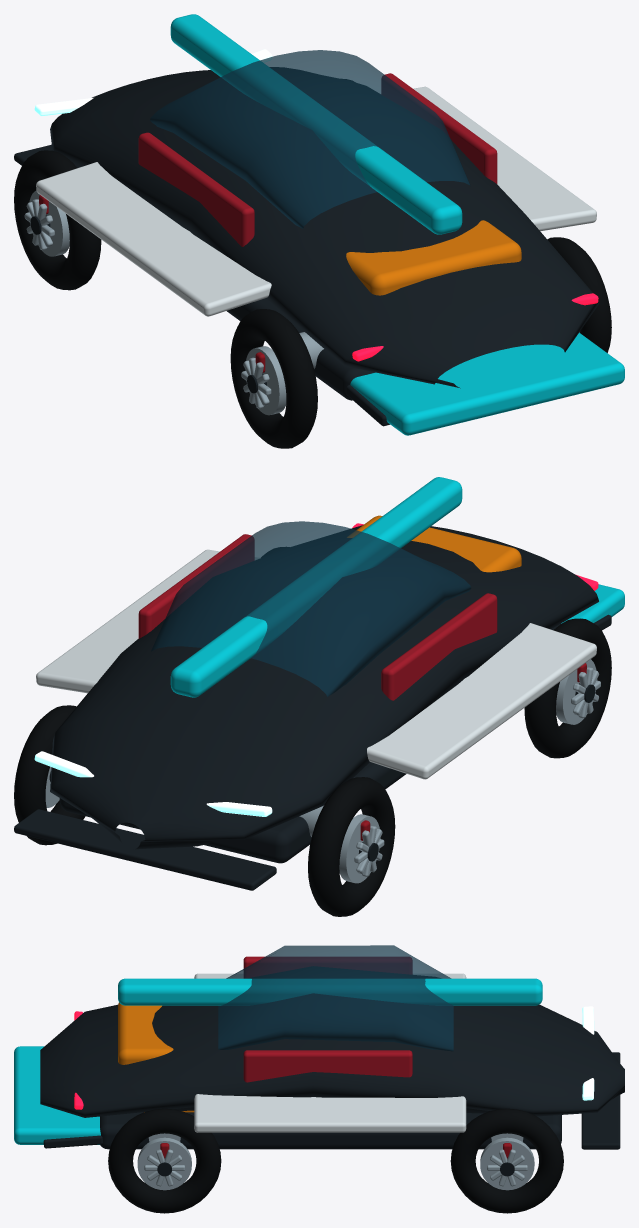
Rendered from chronos_flux.glb.
The picture shows the model from 3 angles, top to bottom: view 1: azimuth 30°, elevation 25°; view 2: azimuth 150°, elevation 25°; view 3: azimuth 270°, elevation 25°; orthographic projection. The views are drawn at different scales.
Visible parts, largest first — view 1: meet_mesh__monocoque__continuous_aero_shell, meet_mesh__canopy__single_piece_glasshouse, meet_mesh__active_diffuser__venturi, meet_mesh__left_vector_wing__morphing_surface, meet_mesh__adaptive_spine__energy_arch, meet_mesh__wheel_left_1.45__tire, meet_mesh__powertrain__original_power_core, meet_mesh__right_vector_wing__morphing_surface, meet_mesh__wheel_left_-1.55__tire, meet_mesh__left_door__scissor_shell, meet_mesh__right_door__scissor_shell, meet_mesh__wheel_right_1.45__tire (+4 smaller); view 2: meet_mesh__monocoque__continuous_aero_shell, meet_mesh__canopy__single_piece_glasshouse, meet_mesh__left_vector_wing__morphing_surface, meet_mesh__adaptive_spine__energy_arch, meet_mesh__wheel_left_-1.55__tire, meet_mesh__front_splitter__aero_plane, meet_mesh__right_vector_wing__morphing_surface, meet_mesh__wheel_left_1.45__tire, meet_mesh__left_door__scissor_shell, meet_mesh__chassis__lower_frame, meet_mesh__wheel_right_-1.55__tire, meet_mesh__right_door__scissor_shell (+6 smaller); view 3: meet_mesh__monocoque__continuous_aero_shell, meet_mesh__canopy__single_piece_glasshouse, meet_mesh__adaptive_spine__energy_arch, meet_mesh__right_vector_wing__morphing_surface, meet_mesh__wheel_right_-1.55__tire, meet_mesh__wheel_right_1.45__tire, meet_mesh__chassis__lower_frame, meet_mesh__right_door__scissor_shell, meet_mesh__active_diffuser__venturi, meet_mesh__left_door__scissor_shell, meet_mesh__powertrain__original_power_core, meet_mesh__front_splitter__aero_plane (+4 smaller).
Boxes of the visible parts, left/top/right/bottom form: meet_mesh__monocoque__continuous_aero_shell: left=50, top=67, right=599, bottom=388; meet_mesh__canopy__single_piece_glasshouse: left=150, top=50, right=470, bottom=228; meet_mesh__active_diffuser__venturi: left=350, top=332, right=624, bottom=435; meet_mesh__left_vector_wing__morphing_surface: left=36, top=162, right=271, bottom=316; meet_mesh__adaptive_spine__energy_arch: left=170, top=14, right=462, bottom=234; meet_mesh__wheel_left_1.45__tire: left=230, top=309, right=317, bottom=448; meet_mesh__powertrain__original_power_core: left=346, top=220, right=521, bottom=295; meet_mesh__right_vector_wing__morphing_surface: left=413, top=86, right=596, bottom=231; meet_mesh__wheel_left_-1.55__tire: left=14, top=150, right=101, bottom=290; meet_mesh__left_door__scissor_shell: left=138, top=132, right=254, bottom=246; meet_mesh__right_door__scissor_shell: left=381, top=73, right=497, bottom=183; meet_mesh__wheel_right_1.45__tire: left=547, top=237, right=611, bottom=352; meet_mesh__monocoque__continuous_aero_shell: left=50, top=525, right=598, bottom=849; meet_mesh__canopy__single_piece_glasshouse: left=151, top=521, right=471, bottom=696; meet_mesh__left_vector_wing__morphing_surface: left=367, top=623, right=596, bottom=779; meet_mesh__adaptive_spine__energy_arch: left=170, top=477, right=462, bottom=697; meet_mesh__wheel_left_-1.55__tire: left=308, top=777, right=395, bottom=916; meet_mesh__front_splitter__aero_plane: left=14, top=809, right=276, bottom=890; meet_mesh__right_vector_wing__morphing_surface: left=36, top=549, right=259, bottom=693; meet_mesh__wheel_left_1.45__tire: left=524, top=618, right=611, bottom=758; meet_mesh__left_door__scissor_shell: left=381, top=593, right=497, bottom=700; meet_mesh__chassis__lower_frame: left=59, top=623, right=560, bottom=863; meet_mesh__wheel_right_-1.55__tire: left=14, top=705, right=85, bottom=845; meet_mesh__right_door__scissor_shell: left=138, top=534, right=254, bottom=638; meet_mesh__monocoque__continuous_aero_shell: left=40, top=966, right=624, bottom=1117; meet_mesh__canopy__single_piece_glasshouse: left=218, top=945, right=453, bottom=1051; meet_mesh__adaptive_spine__energy_arch: left=118, top=978, right=542, bottom=1005; meet_mesh__right_vector_wing__morphing_surface: left=194, top=1094, right=466, bottom=1132; meet_mesh__wheel_right_-1.55__tire: left=450, top=1108, right=563, bottom=1213; meet_mesh__wheel_right_1.45__tire: left=108, top=1108, right=221, bottom=1213; meet_mesh__chassis__lower_frame: left=100, top=1112, right=561, bottom=1149; meet_mesh__right_door__scissor_shell: left=243, top=1050, right=412, bottom=1082; meet_mesh__active_diffuser__venturi: left=14, top=1046, right=100, bottom=1144; meet_mesh__left_door__scissor_shell: left=243, top=956, right=412, bottom=978; meet_mesh__powertrain__original_power_core: left=118, top=1002, right=194, bottom=1112; meet_mesh__front_splitter__aero_plane: left=581, top=1052, right=620, bottom=1149.
Bounding box in the file's own units: 3.14 × 1.88 × 5.35.
